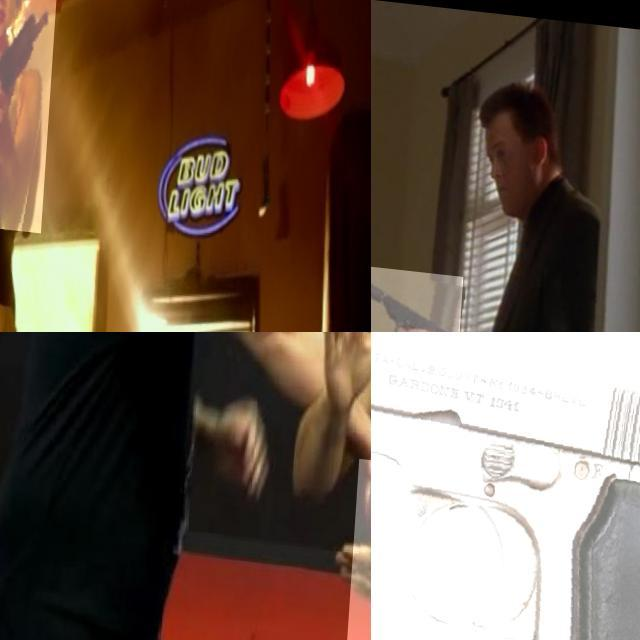-: (352, 449, 371, 640)
gun-knife-thesis - v11 Yolov5 augmented: (371, 332, 640, 640), (0, 0, 65, 226), (371, 259, 467, 332)
